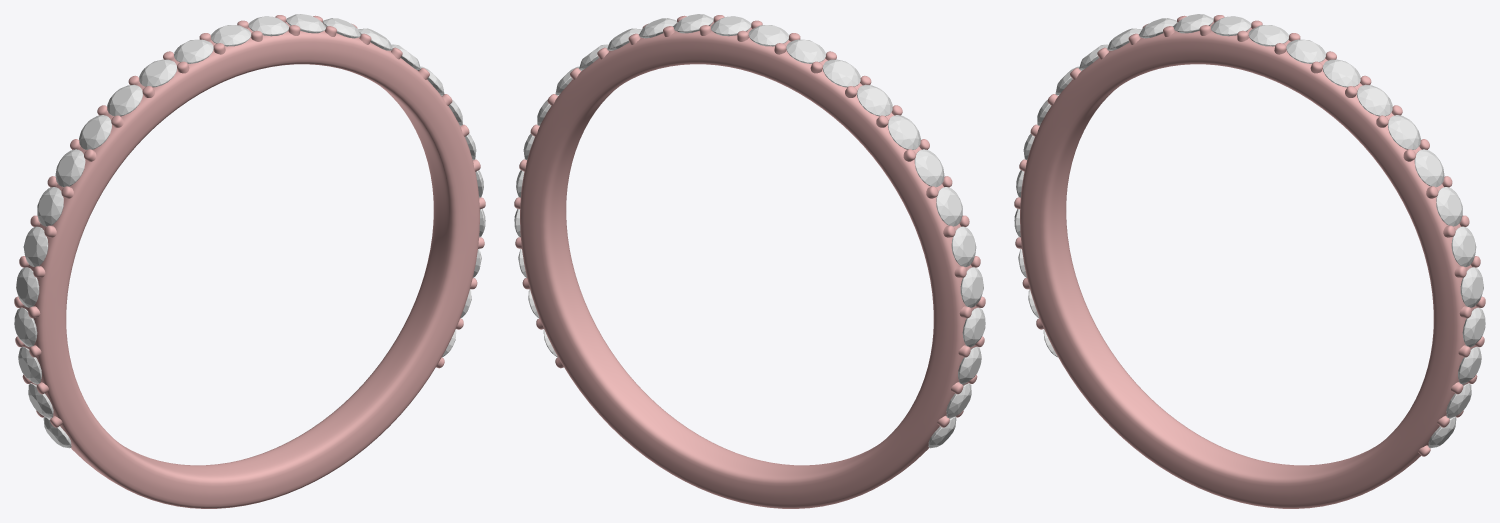
File: PLATE-PRONG.glb
3 renders of one model, left to right at view 1: azimuth 30°, elevation 25°; view 2: azimuth 150°, elevation 25°; view 3: azimuth 330°, elevation 25°, orthographic.
Visible parts, largest first — view 1: plain.001, diamond.002, metal.002; view 2: plain.001, diamond.002, metal.002; view 3: plain.001, diamond.002, metal.002.
Boxes of the visible parts, x1,y1,x2,y2 form: plain.001: (22,22,479,508); diamond.002: (14,14,485,448); metal.002: (14,15,485,427); plain.001: (520,22,977,508); diamond.002: (514,14,985,448); metal.002: (514,15,985,427); plain.001: (1020,22,1477,508); diamond.002: (1014,14,1485,448); metal.002: (1014,15,1485,456).
Size of the model in its own units: 16.13 by 15.85 by 1.38.
